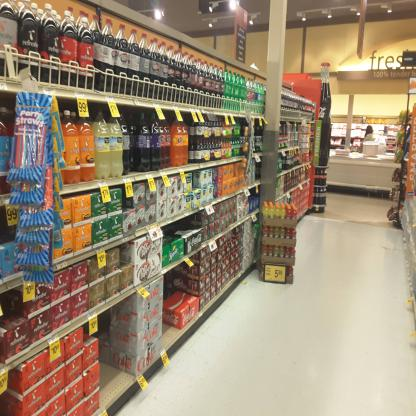Void: (99, 316, 131, 392), (4, 293, 22, 321), (169, 273, 190, 289)
